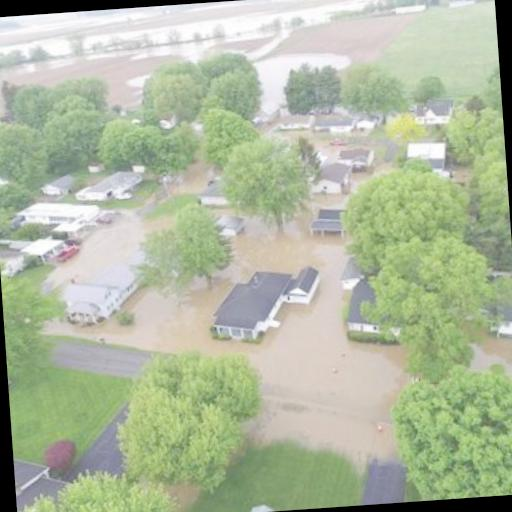flood: (44, 196, 408, 474), (22, 20, 301, 70), (84, 0, 366, 49), (47, 210, 173, 288), (253, 52, 351, 124), (0, 36, 71, 57), (474, 338, 512, 376), (125, 74, 148, 88), (353, 173, 371, 188), (375, 164, 391, 174)
house: (210, 265, 299, 344), (14, 196, 102, 240), (342, 281, 395, 342), (86, 170, 142, 204), (286, 265, 324, 311), (405, 137, 451, 174), (310, 162, 352, 198), (310, 206, 348, 242), (22, 236, 65, 266), (422, 96, 455, 126), (338, 256, 365, 290), (312, 116, 350, 140), (277, 113, 314, 131), (356, 115, 378, 132)
